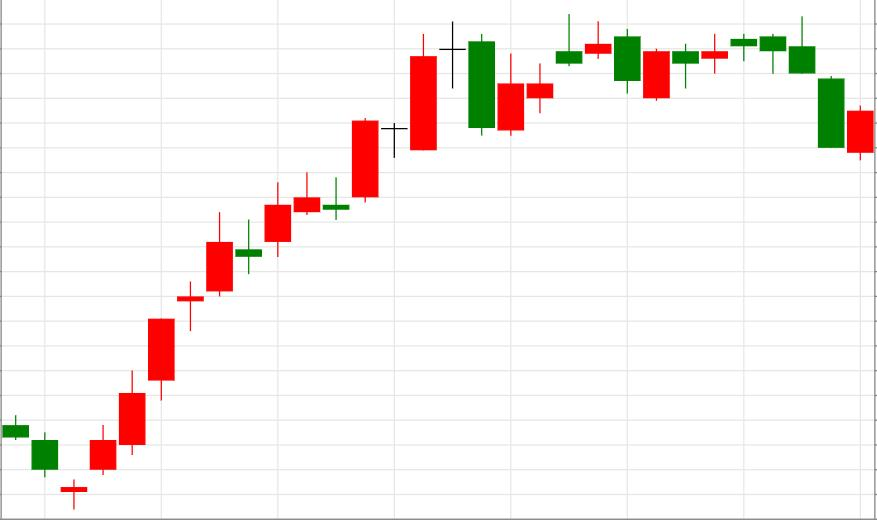evening_star_fall: (61, 22, 495, 508)
